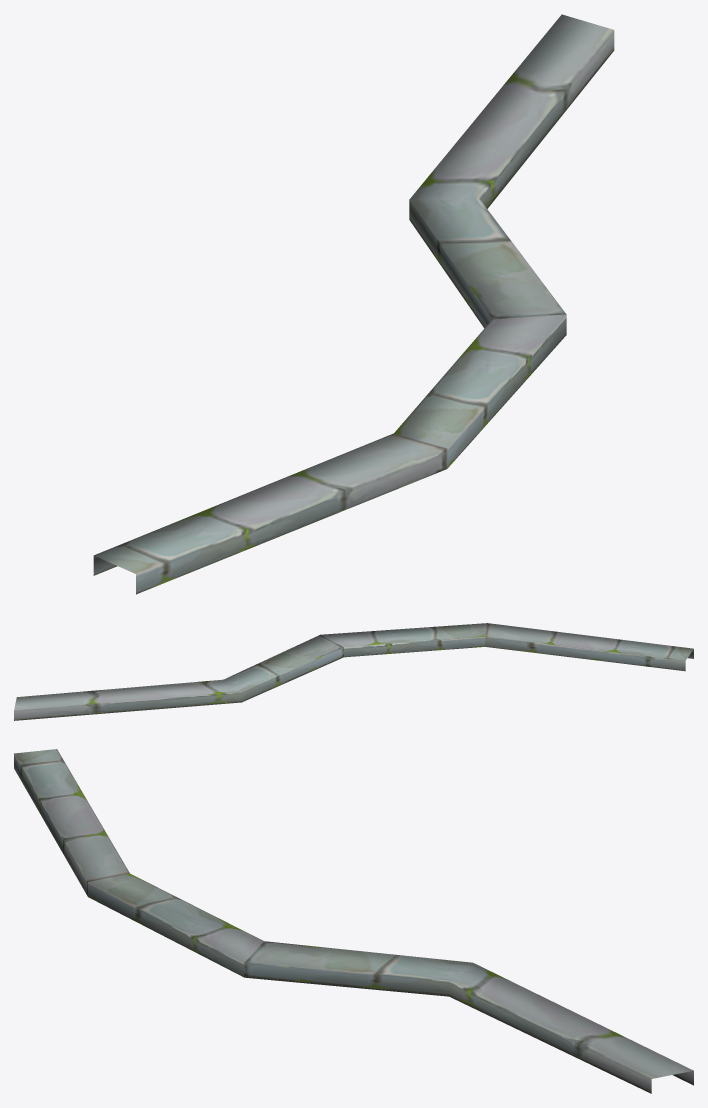
File: Map_06_brick04.FBX
3 views of the same model, one above another, from view 1: azimuth 30°, elevation 25°; view 2: azimuth 150°, elevation 25°; view 3: azimuth 270°, elevation 25° (orthographic). The views are drawn at different scales.
Visible parts, largest first — view 1: Map_06_brick04; view 2: Map_06_brick04; view 3: Map_06_brick04.
Boxes of the visible parts, x1=… form: Map_06_brick04: x1=93, y1=14, x2=614, y2=594; Map_06_brick04: x1=14, y1=623, x2=693, y2=720; Map_06_brick04: x1=14, y1=749, x2=693, y2=1093.
Size of the model in its own units: 1547 by 1347 by 32.64.
